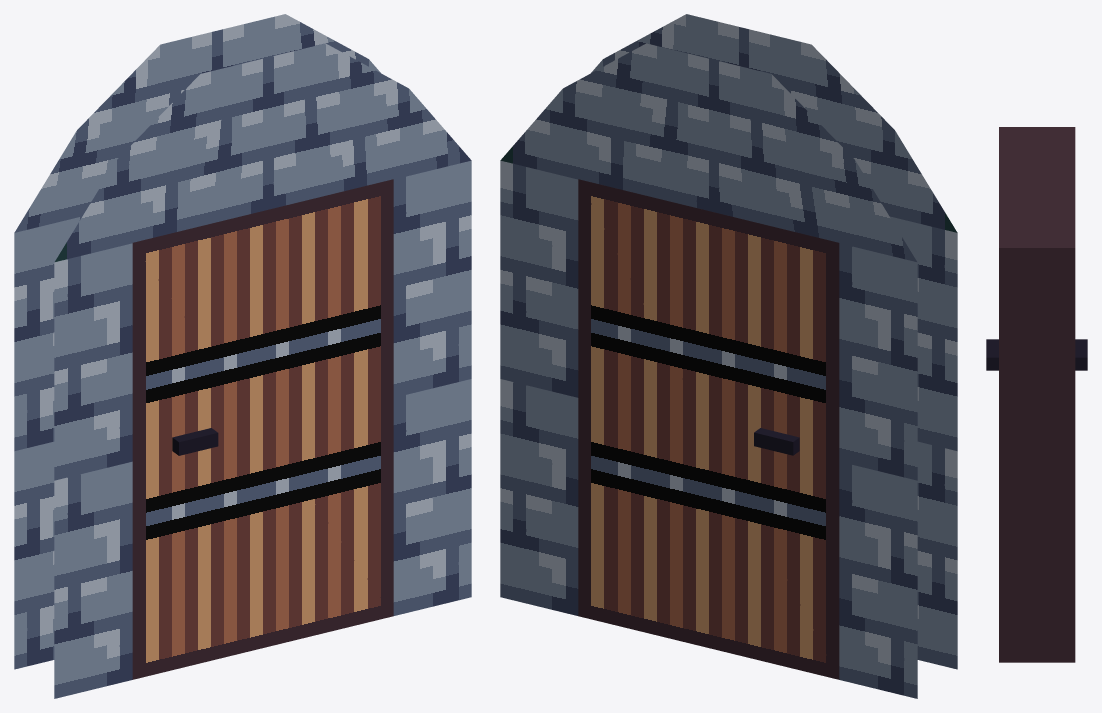
Rendered from door.glb.
3 renders of one model, left to right at view 1: azimuth 30°, elevation 25°; view 2: azimuth 150°, elevation 25°; view 3: azimuth 270°, elevation 25°, orthographic. The views are drawn at different scales.
Parts seen in each view (by area): view 1: Door-Enclosure-col, Door; view 2: Door-Enclosure-col, Door; view 3: Door.
Part boxes in pixels (x1,y1,x2,y2): Door-Enclosure-col: (14,14,471,698); Door: (132,179,393,679); Door-Enclosure-col: (500,14,957,698); Door: (578,179,839,679); Door: (986,127,1087,662).
Bounding box in the file's own units: 2.02 × 2.73 × 0.4463.
1 material, 1 textured.
